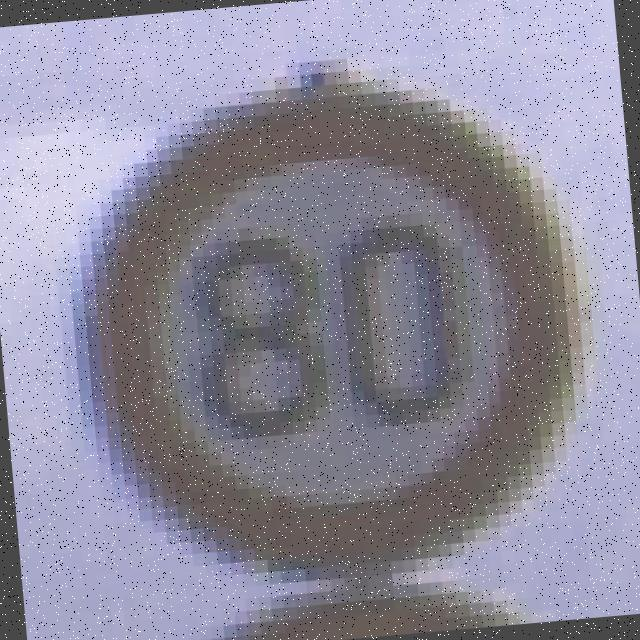Ograniczenie predkosci do 80: (81, 74, 592, 594)
